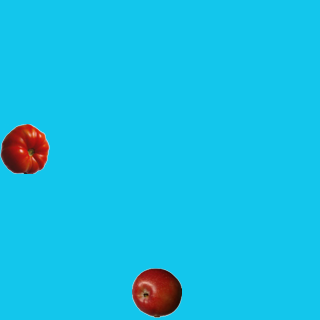Apple Braeburn: (131, 267, 181, 317)
Tomato 3: (0, 123, 49, 173)
